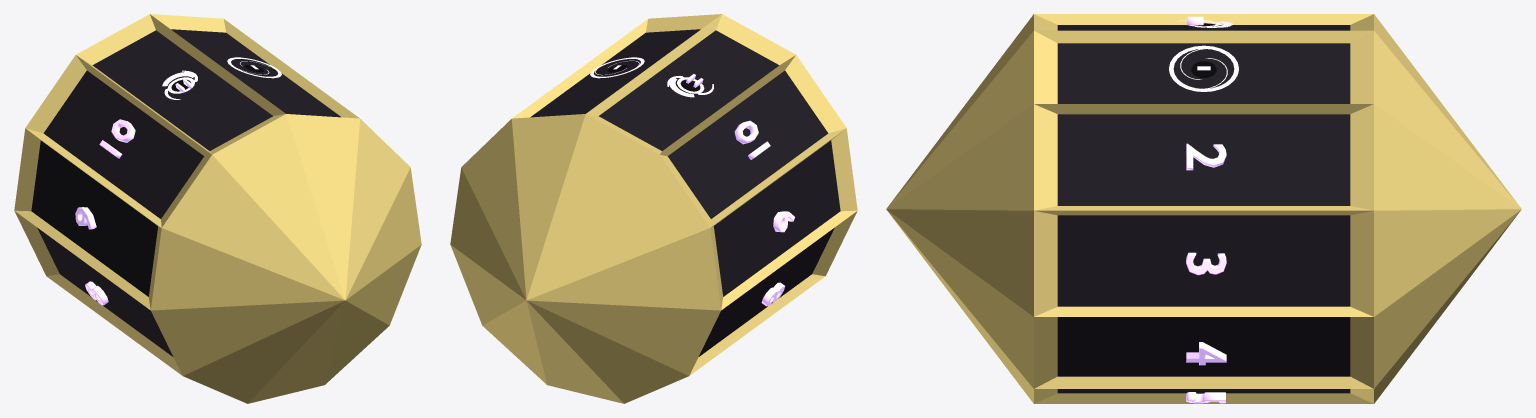
File: d11_black_hole_gold.glb
3 views of the same model, side by side, from view 1: azimuth 30°, elevation 25°; view 2: azimuth 150°, elevation 25°; view 3: azimuth 270°, elevation 25° (orthographic). The views are drawn at different scales.
Visible parts, largest first — view 1: D11_BlackHole_Gold; view 2: D11_BlackHole_Gold; view 3: D11_BlackHole_Gold.
Part boxes in pixels (left/top/right/bottom): D11_BlackHole_Gold: left=14, top=14, right=421, bottom=403; D11_BlackHole_Gold: left=450, top=14, right=857, bottom=403; D11_BlackHole_Gold: left=886, top=14, right=1521, bottom=403.
Bounding box in the file's own units: 4.36 × 4.37 × 7.1.
